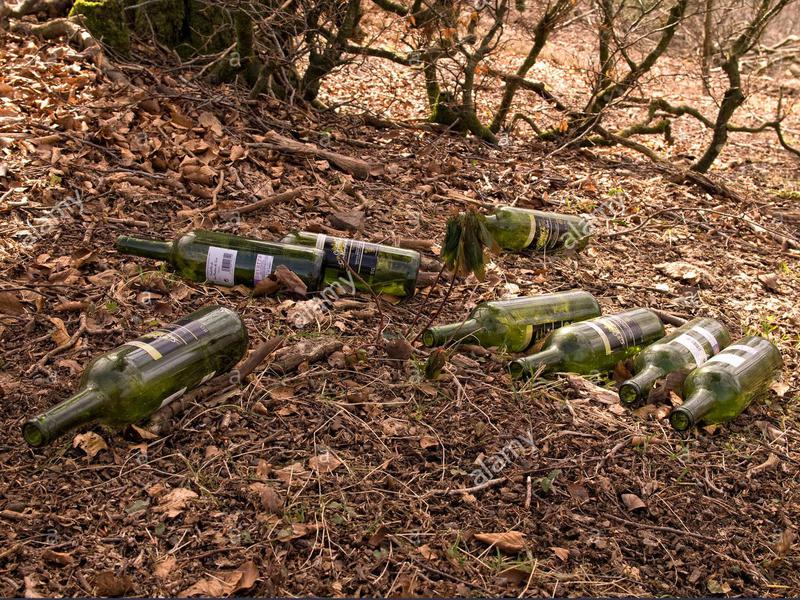bottle: (18, 302, 250, 453), (106, 221, 328, 294), (665, 333, 787, 436), (503, 304, 667, 380), (418, 290, 603, 348)
